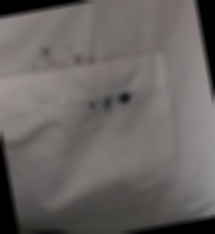ink: (82, 90, 139, 117), (39, 41, 88, 71)
